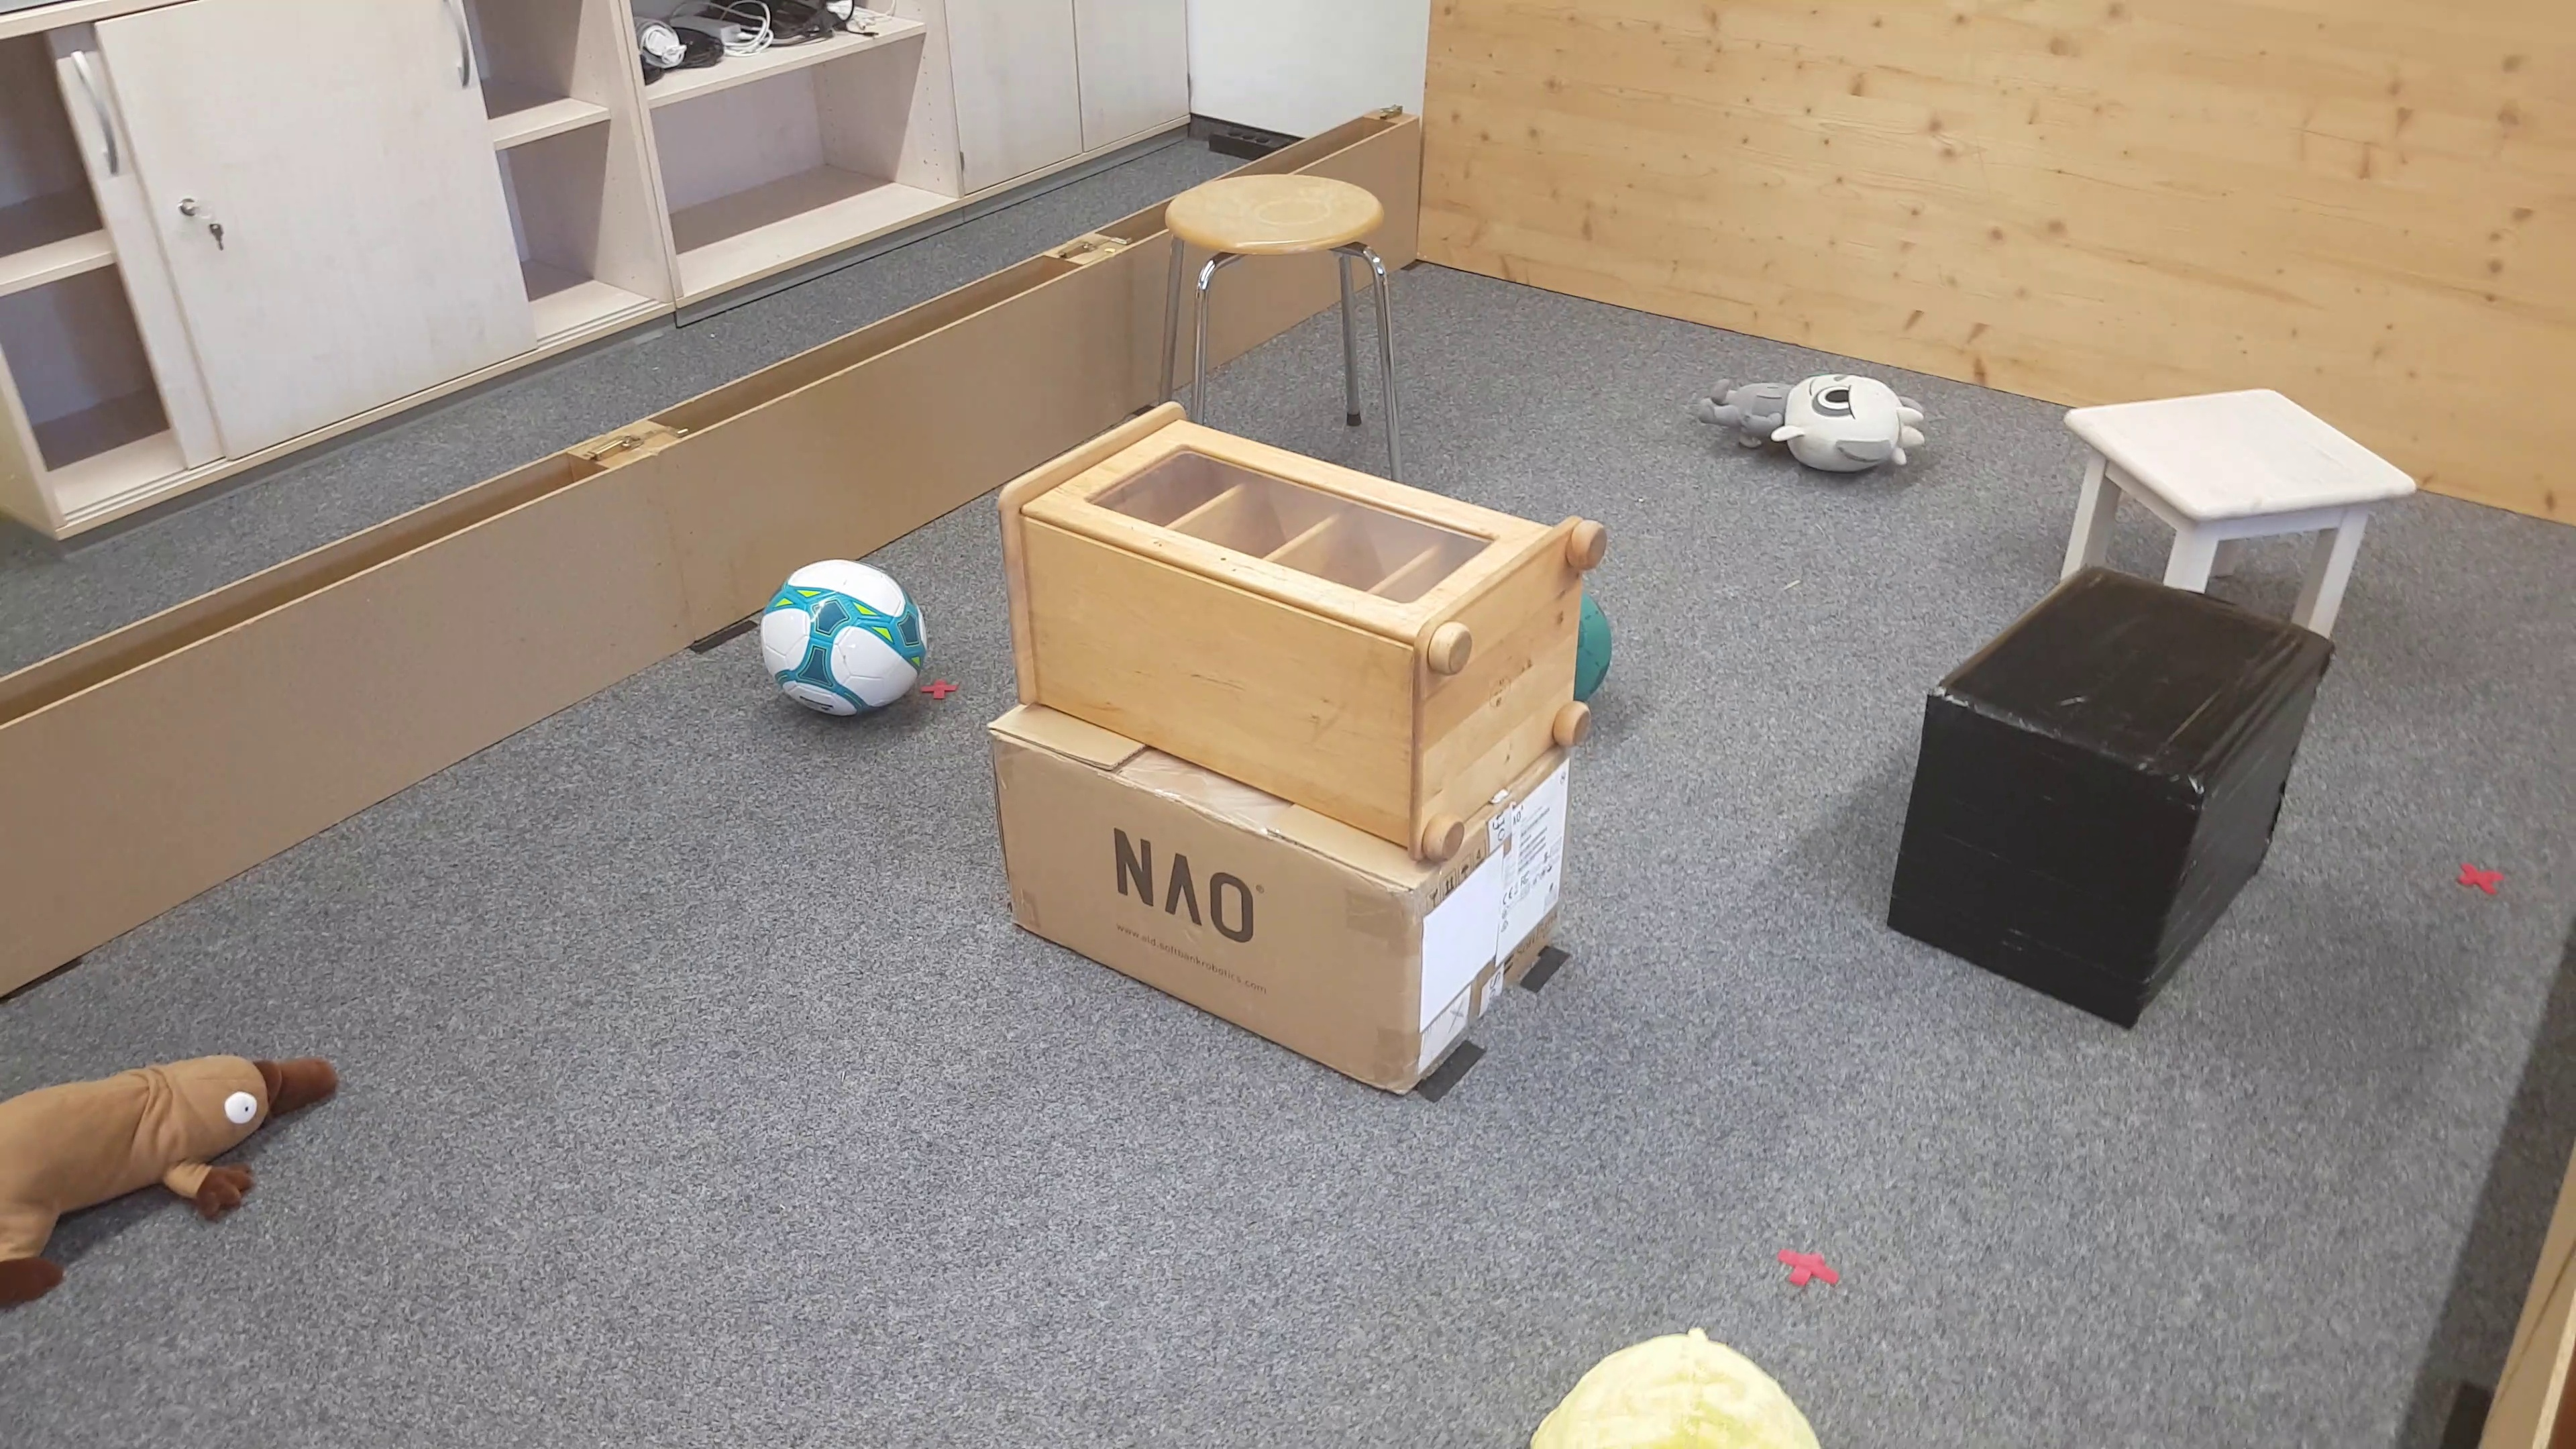grasp: (7, 1049, 347, 1306), (1523, 1327, 1819, 1449), (1700, 372, 1930, 481)
kick: (764, 552, 929, 720), (1578, 600, 1612, 699)
push: (1886, 564, 2339, 1033)
